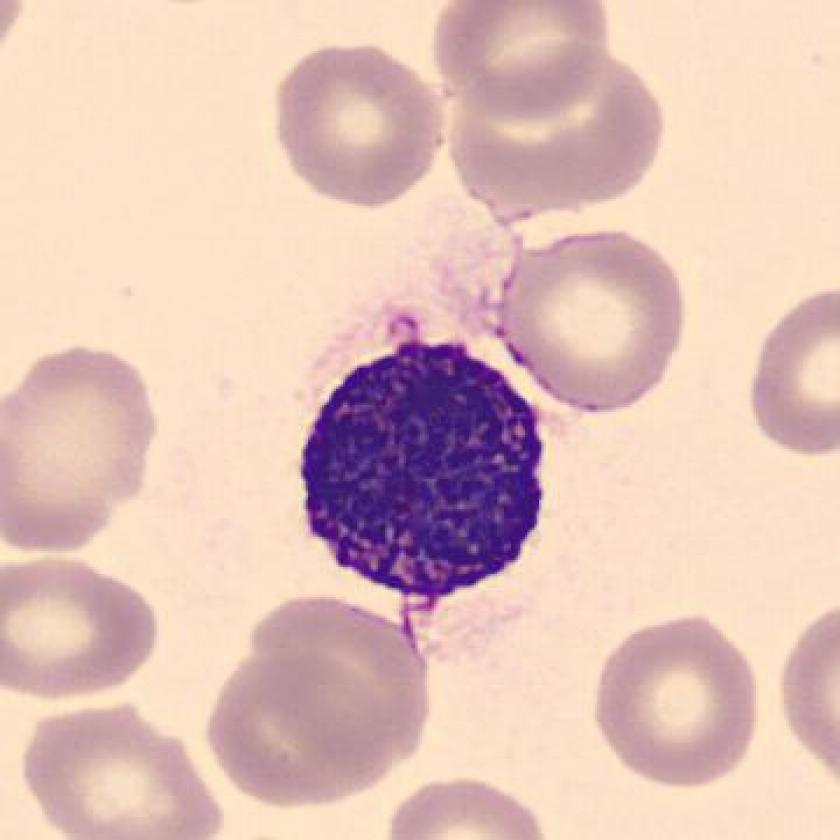basophil: (281, 323, 570, 624)
